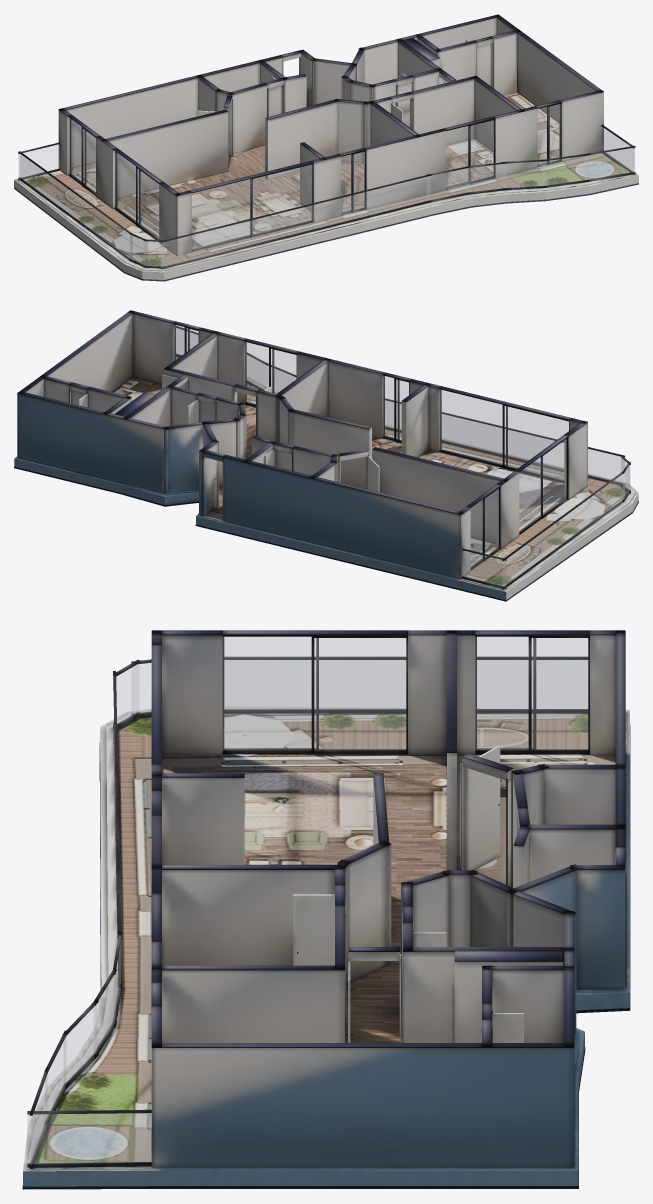
3 views of the same model, one above another, from view 1: azimuth 30°, elevation 25°; view 2: azimuth 150°, elevation 25°; view 3: azimuth 270°, elevation 25° (orthographic). The views are drawn at different scales.
Visible parts, largest first — view 1: plan, railg7_m, glass0_m, railg10_m, glass4_m, glass2_m, glass3_m, railg2_m, glass1_m, railg3_m, railg6_m, glass5_m (+6 smaller); view 2: plan, glass0_m, railg7_m, railg10_m, glass2_m, glass4_m, glass3_m, railg0_m, glass1_m, glass5_m, railg4_m; view 3: plan, glass2_m, railg10_m, glass3_m, railg1_m, railg4_m, railg8_m, railg5_m, railg9_m, railg3_m.
Part boxes in pixels (box(x1,y1,x2,y2)): plan: box(14, 14, 638, 281); railg7_m: box(161, 176, 430, 266); glass0_m: box(192, 165, 311, 249); railg10_m: box(20, 154, 132, 259); glass4_m: box(446, 120, 493, 187); glass2_m: box(115, 151, 158, 238); glass3_m: box(69, 118, 95, 192); railg2_m: box(585, 148, 634, 179); glass1_m: box(341, 152, 364, 212); railg3_m: box(542, 155, 588, 185); railg6_m: box(426, 168, 469, 200); glass5_m: box(538, 104, 559, 164); plan: box(14, 310, 638, 601); glass0_m: box(440, 389, 568, 479); railg7_m: box(385, 401, 624, 482); railg10_m: box(503, 473, 624, 586); glass2_m: box(519, 439, 566, 531); glass4_m: box(245, 342, 296, 404); glass3_m: box(471, 489, 498, 567); railg0_m: box(462, 550, 506, 586); glass1_m: box(383, 376, 408, 439); glass5_m: box(174, 325, 198, 360); railg4_m: box(247, 355, 264, 389); plan: box(22, 630, 630, 1189); glass2_m: box(223, 637, 405, 749); railg10_m: box(225, 660, 587, 708); glass3_m: box(475, 637, 587, 749); railg1_m: box(27, 1113, 151, 1163); railg4_m: box(64, 1004, 96, 1085); railg8_m: box(116, 664, 138, 723); railg5_m: box(94, 975, 115, 1054); railg9_m: box(132, 663, 151, 713); railg3_m: box(45, 1038, 65, 1118).
Bounding box in the file's own units: 18.77 × 2.62 × 10.35.
Materials: 2 (1 with a texture image).
